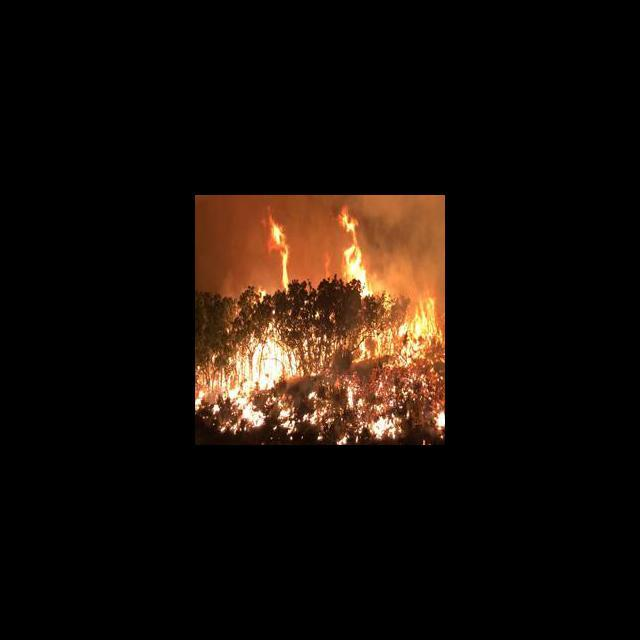Fire: (195, 312, 438, 445), (338, 200, 374, 293), (265, 201, 293, 288)
